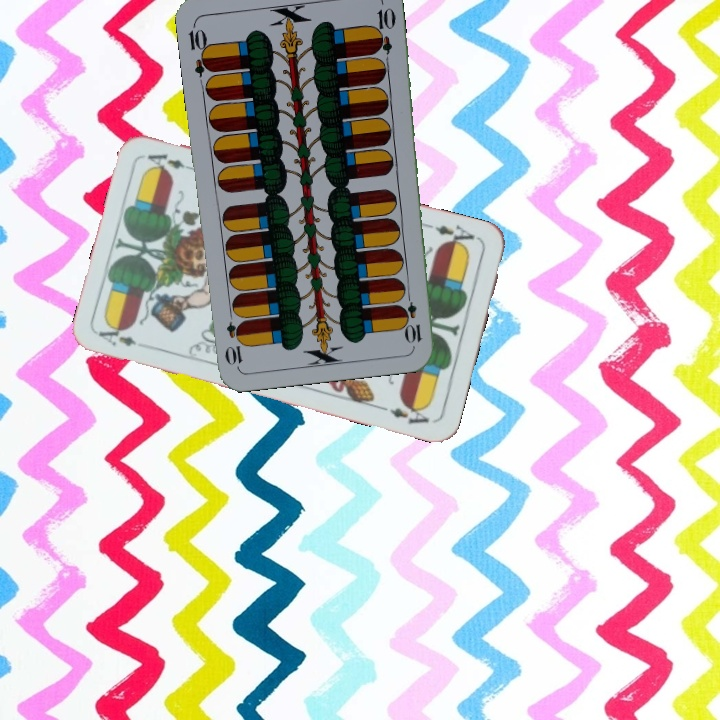E10: (184, 19, 215, 78), (401, 287, 424, 346)
EA: (423, 220, 482, 251), (95, 320, 140, 349)
